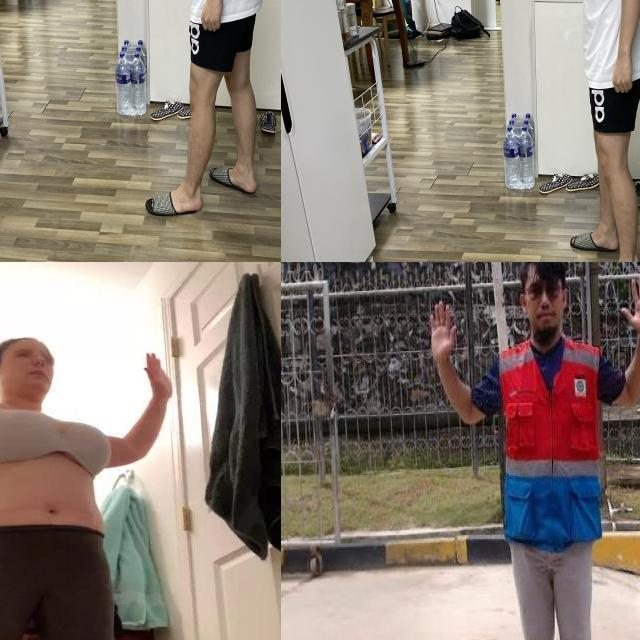No_Ear-Protection: (515, 290, 533, 314), (558, 284, 572, 312)
Sandals: (145, 165, 203, 218), (209, 136, 259, 196), (562, 226, 628, 262)
face_nomask: (17, 360, 60, 391)
hand_noglove: (125, 340, 179, 417)
person: (405, 262, 640, 640), (0, 262, 176, 640)
vest: (499, 338, 606, 546)
